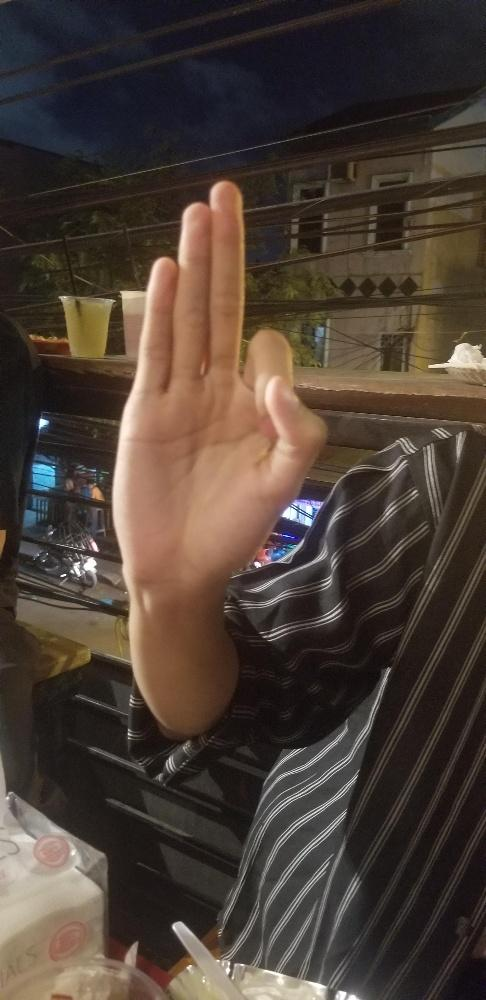f: (108, 176, 329, 591)
